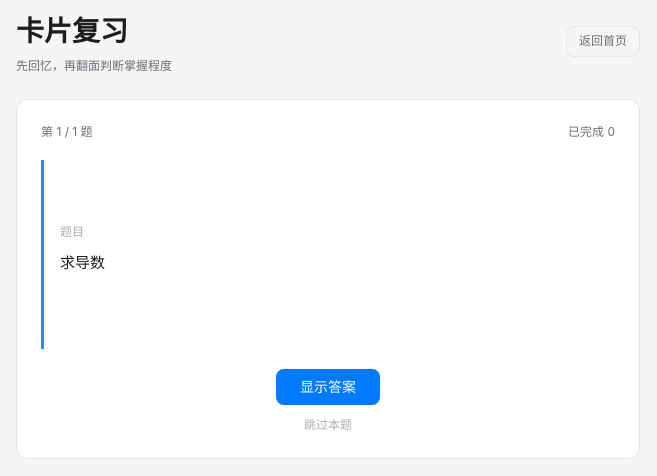
Test case: FlashcardsView › 质量按钮写入对应的 SM-2 质量并进入下一张
Click the button with aria-label "显示答案" at (83, 263), box x1=41 y1=160 x2=615 y2=349
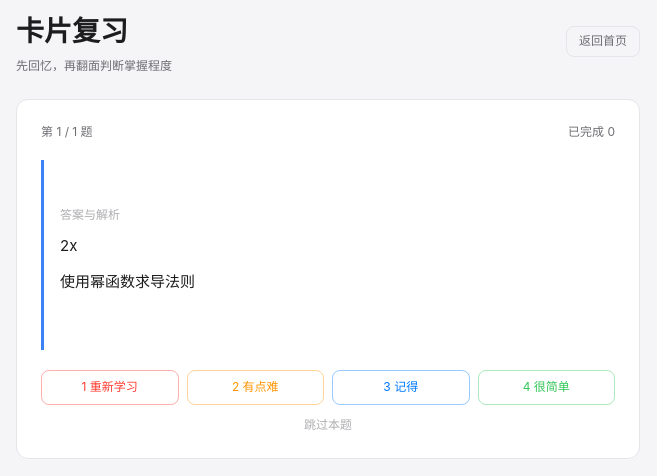
Expected: the button "3 记得" is shown
Click the button "3 记得" at (401, 387), box x1=332 y1=370 x2=470 y2=405
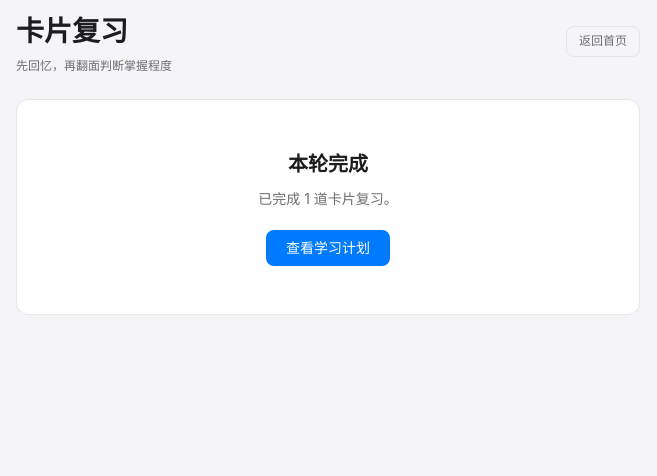
Expected: the text "本轮完成" is shown, x1=288 y1=152 x2=368 y2=176
